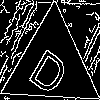D: (26, 40, 75, 98)
